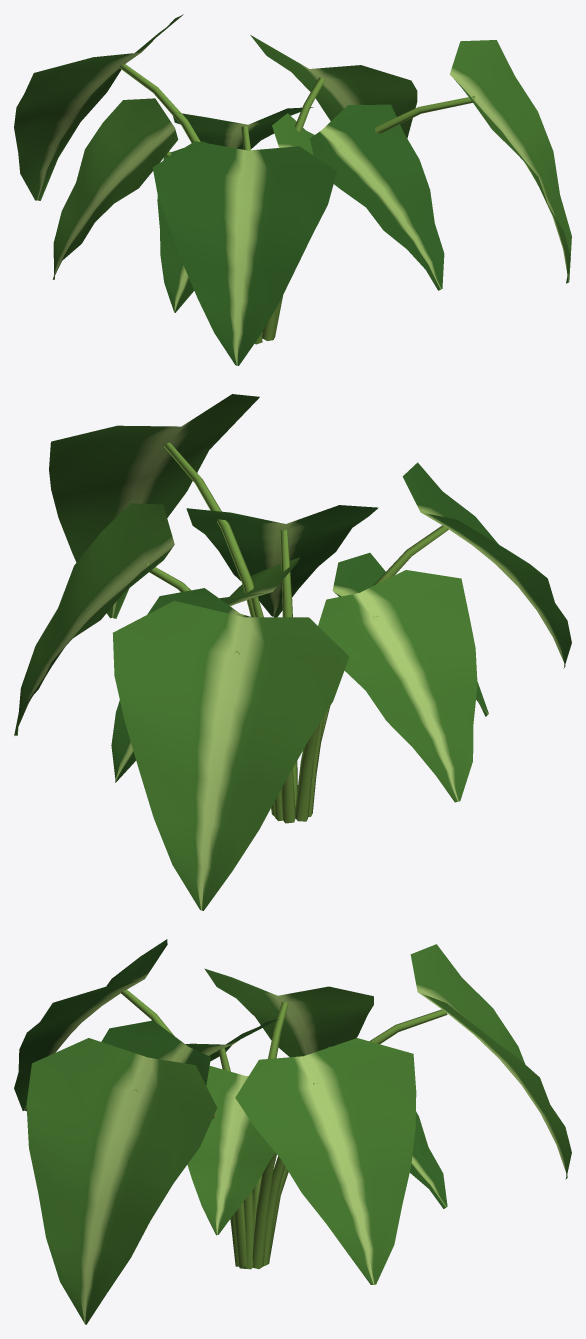
3 views of the same model, one above another, from view 1: azimuth 30°, elevation 25°; view 2: azimuth 150°, elevation 25°; view 3: azimuth 270°, elevation 25° (orthographic). The views are drawn at different scales.
Parts seen in each view (by area): view 1: foliage; view 2: foliage; view 3: foliage.
Part boxes in pixels (x1=…): foliage: x1=14, y1=14, x2=571, y2=365; foliage: x1=14, y1=394, x2=571, y2=910; foliage: x1=14, y1=939, x2=571, y2=1324.
Size of the model in its own units: 1.69 by 1.05 by 1.82.
Materials: 1 (1 with a texture image).
